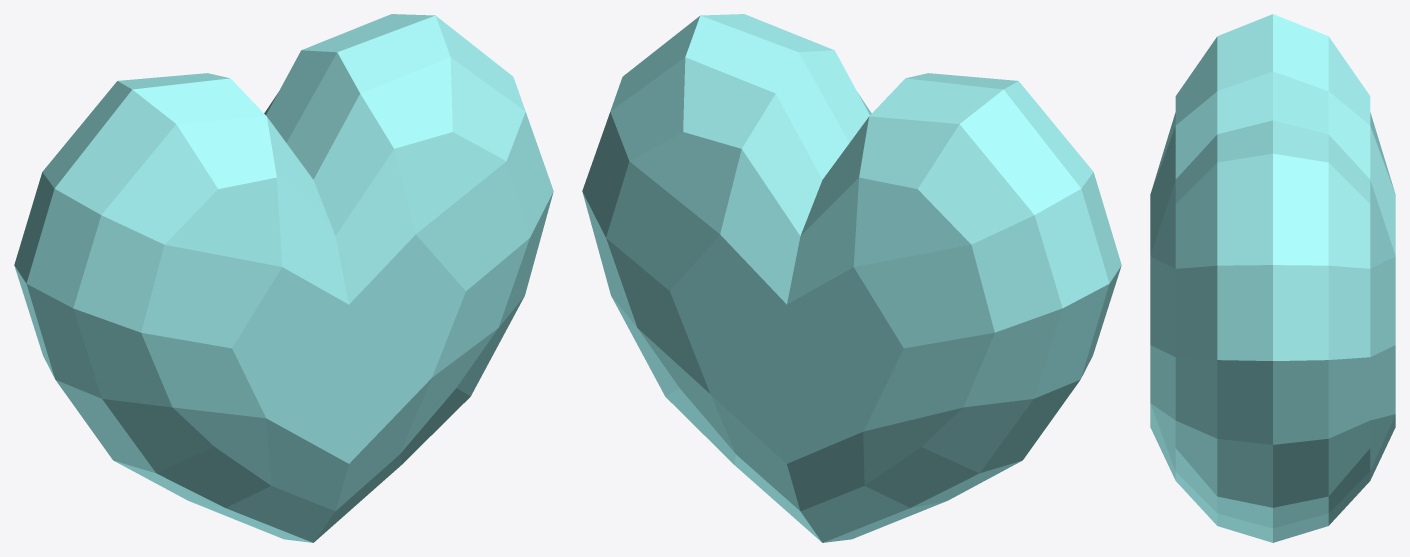
File: heart.glb
3 views of the same model, side by side, from view 1: azimuth 30°, elevation 25°; view 2: azimuth 150°, elevation 25°; view 3: azimuth 270°, elevation 25° (orthographic). The views are drawn at different scales.
Parts seen in each view (by area): view 1: pCube1; view 2: pCube1; view 3: pCube1.
Boxes of the visible parts, bbox=[...] form: pCube1: bbox=[14, 14, 553, 542]; pCube1: bbox=[582, 14, 1121, 542]; pCube1: bbox=[1150, 14, 1395, 542].
Size of the model in its own units: 1.1 by 0.9937 by 0.4816.
